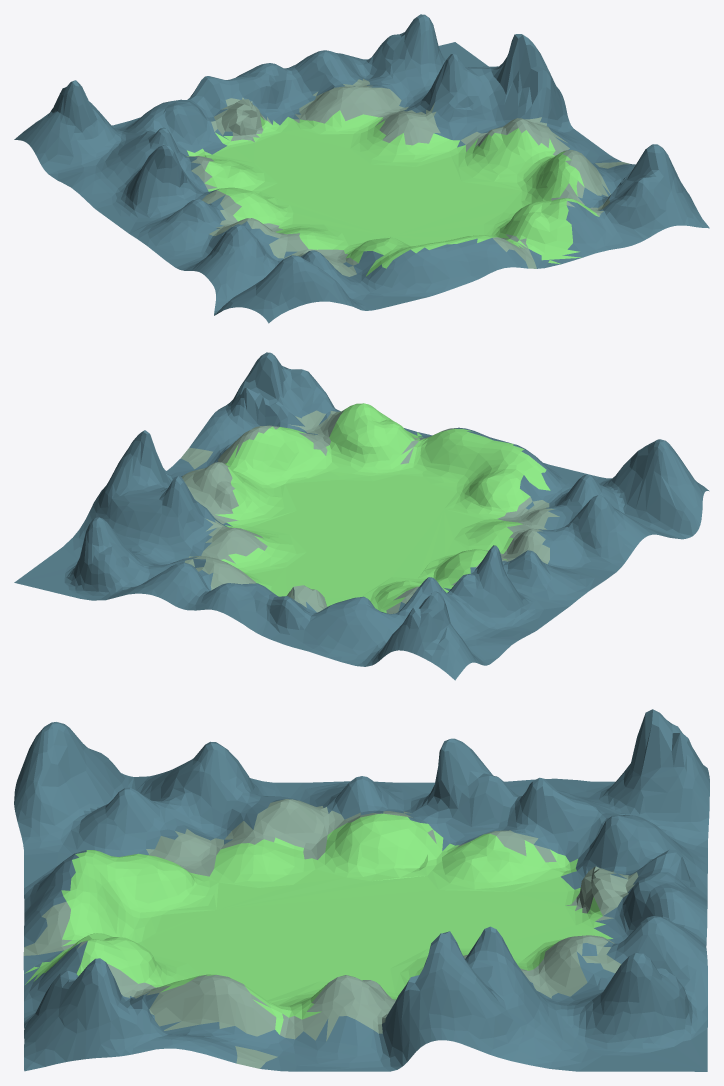
The model's file is horizon2.fbx.
The picture shows the model from 3 angles, top to bottom: view 1: azimuth 30°, elevation 25°; view 2: azimuth 150°, elevation 25°; view 3: azimuth 270°, elevation 25°; orthographic projection. The views are drawn at different scales.
Parts seen in each view (by area): view 1: Plane; view 2: Plane; view 3: Plane.
Part boxes in pixels (left/top/right/bottom): Plane: left=14, top=14, right=709, bottom=323; Plane: left=14, top=352, right=709, bottom=680; Plane: left=14, top=709, right=709, bottom=1071.
Bounding box in the file's own units: 213 × 39.08 × 204.
